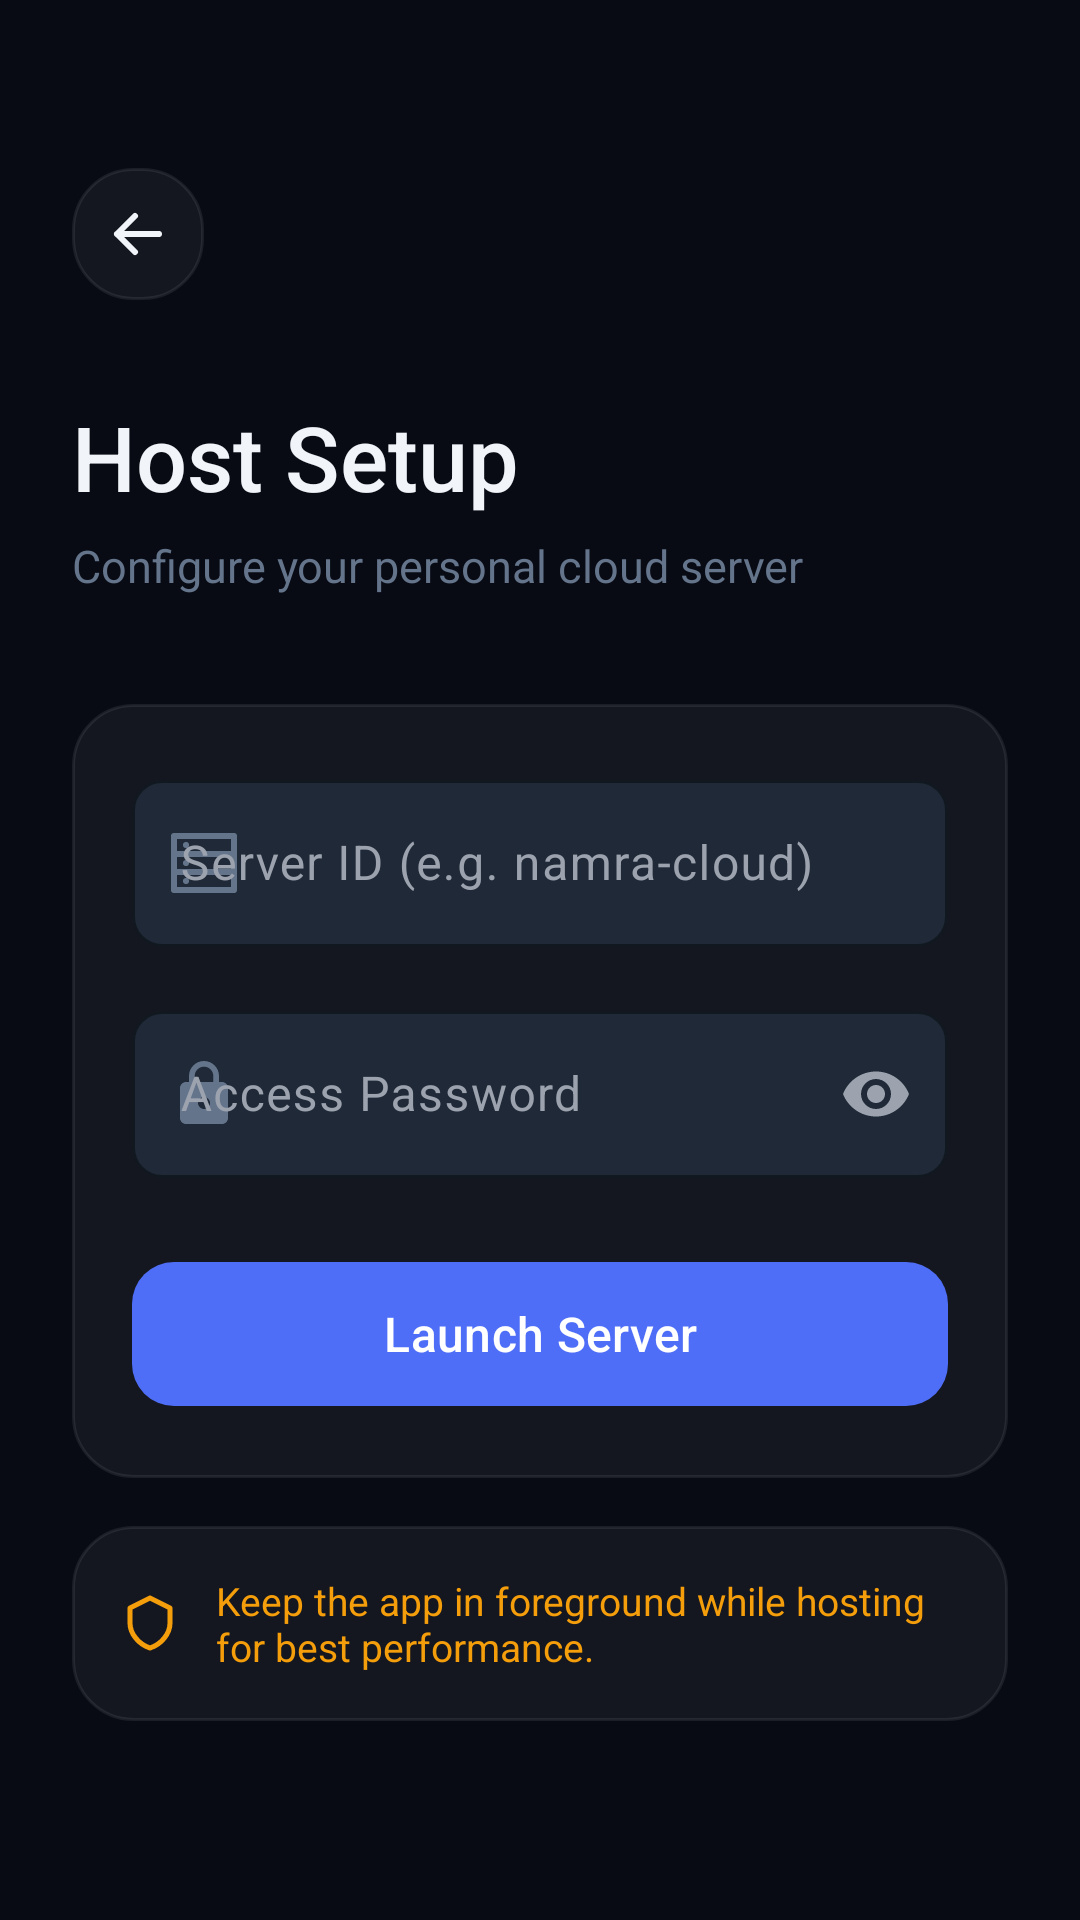

Named icons in this screenshot (1080x1920) and their bounding boxes, (x1, y1, x2, y2):
back: (72, 168, 204, 300)
shield: (127, 1595, 173, 1651)
